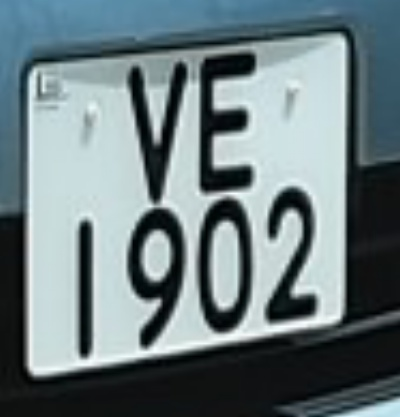0: (184, 191, 265, 354)
1: (61, 207, 124, 381)
2: (253, 177, 328, 337)
9: (115, 202, 192, 366)
E: (189, 39, 267, 203)
V: (117, 51, 197, 210)
